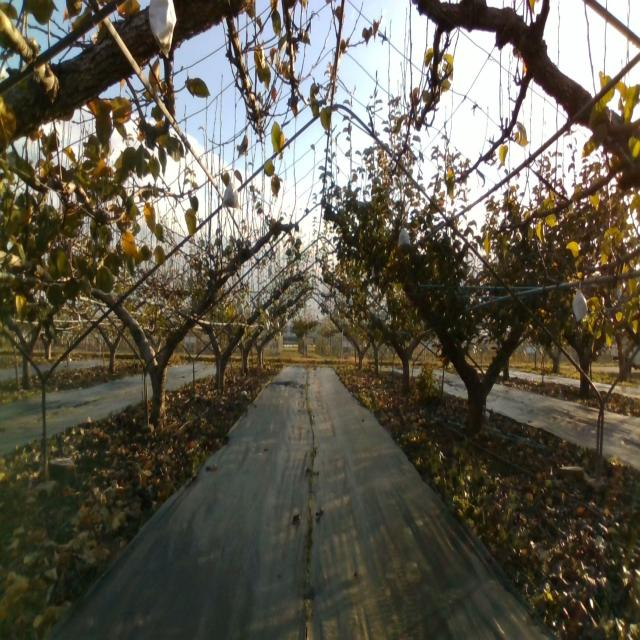pearbags: (148, 0, 177, 60), (571, 288, 589, 323), (222, 178, 239, 210), (396, 225, 411, 248)
